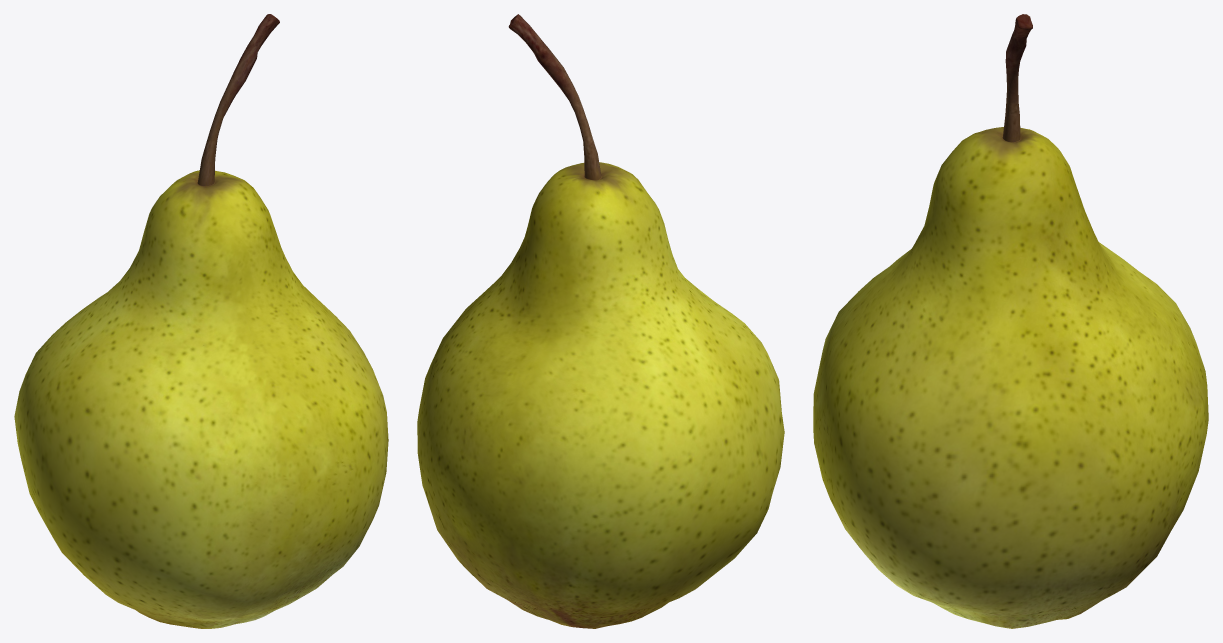
The model's file is pear_export.obj.
The picture shows the model from 3 angles, left to right: view 1: azimuth 30°, elevation 25°; view 2: azimuth 150°, elevation 25°; view 3: azimuth 270°, elevation 25°; orthographic projection. The views are drawn at different scales.
Visible parts, largest first — view 1: pear.002_Cube.002; view 2: pear.002_Cube.002; view 3: pear.002_Cube.002.
Boxes of the visible parts, x1,y1,x2,y2 form: pear.002_Cube.002: (14,14,388,628); pear.002_Cube.002: (417,14,784,628); pear.002_Cube.002: (813,14,1208,628).
Size of the model in its own units: 3.29 by 5.72 by 3.26.
